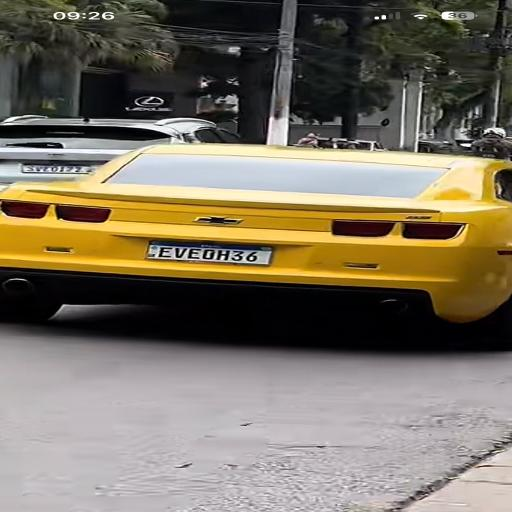detec-o-placas: (69, 191, 363, 300)
